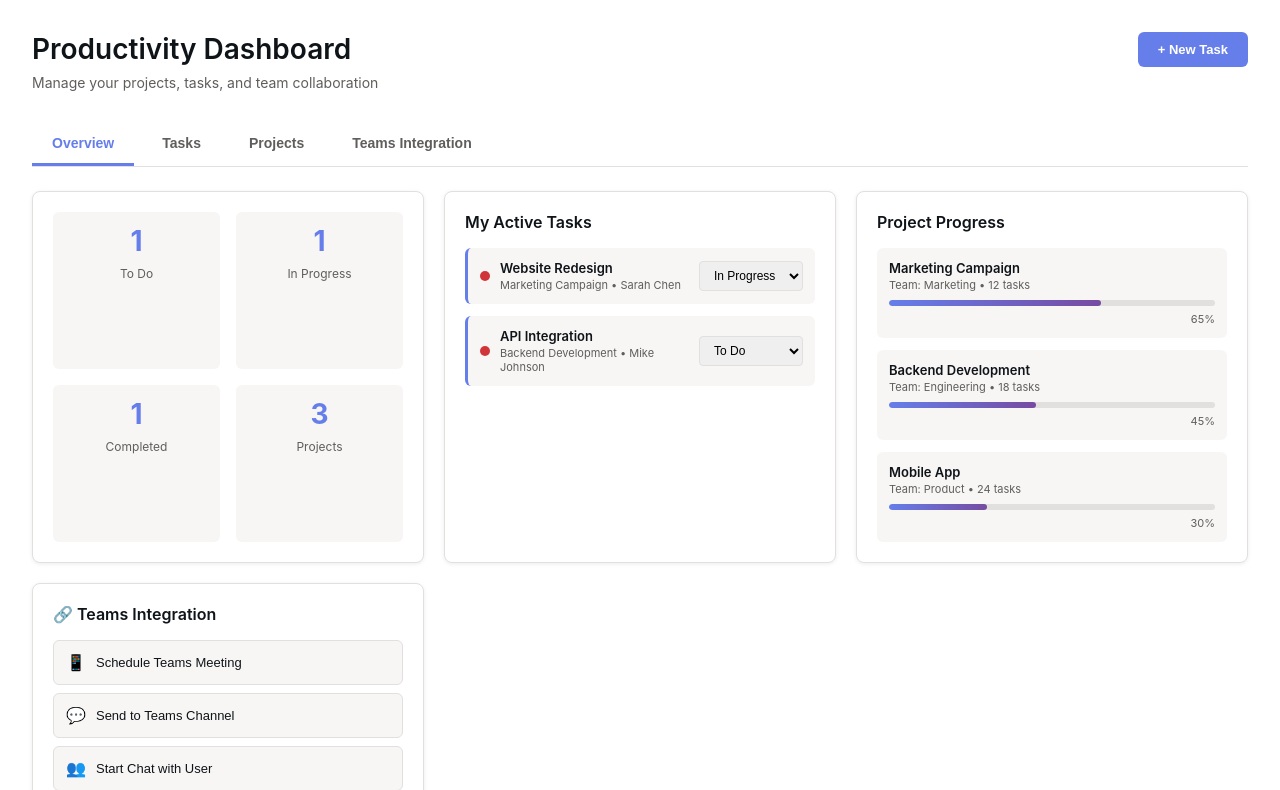
Test: Dashboard › creates a new task from the quick task form
Click the button "+ New Task" at (1193, 50), box [1138,32,1248,67]
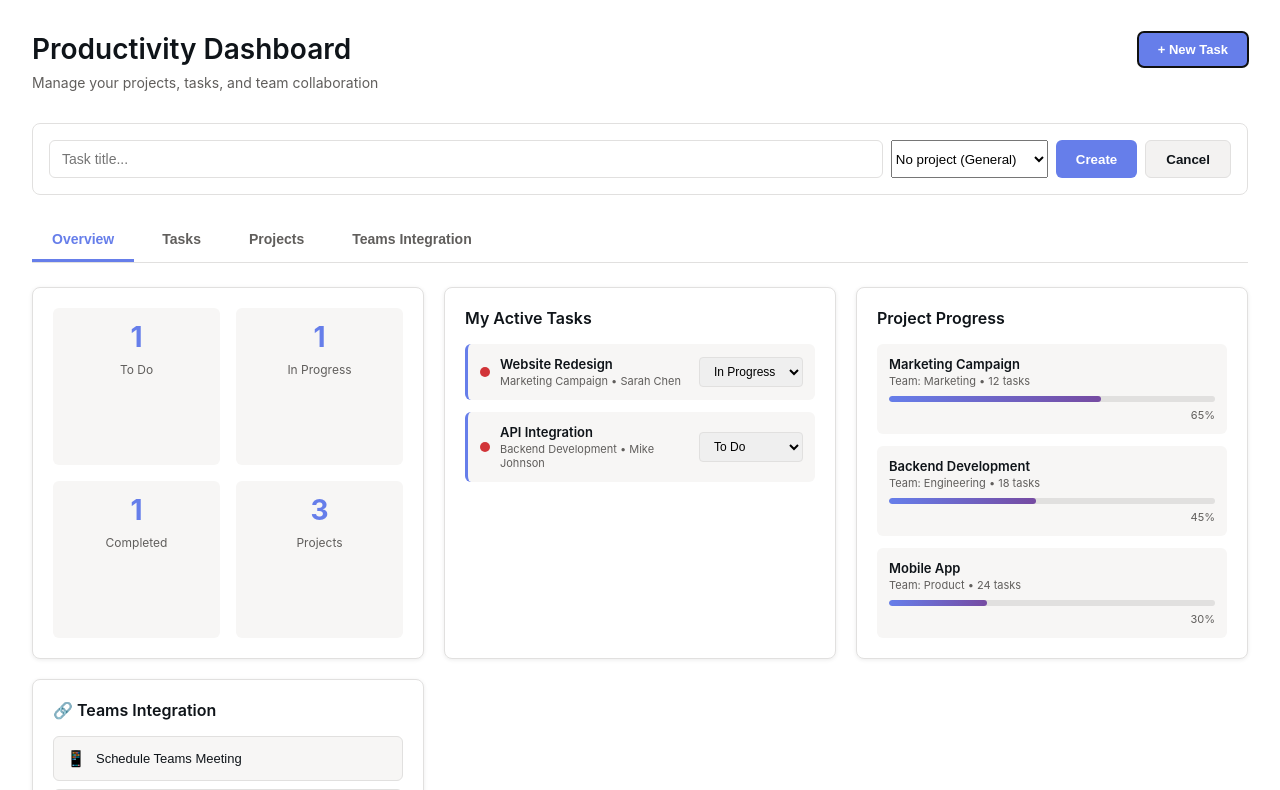
Type "Write automated tests" into the field with placeholder "Task title..." at (466, 159), box [49,140,883,178]
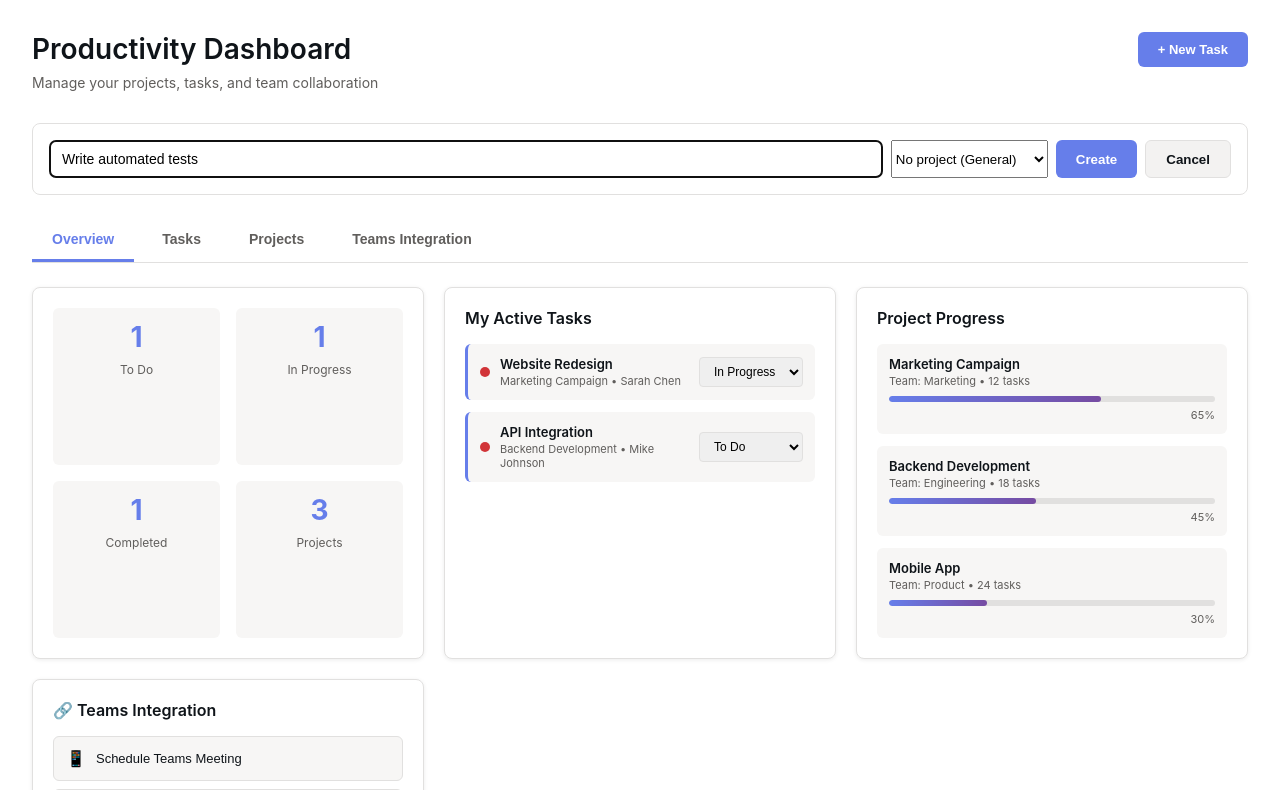
Click the button "Create" at (1097, 159), box [1056,140,1137,178]
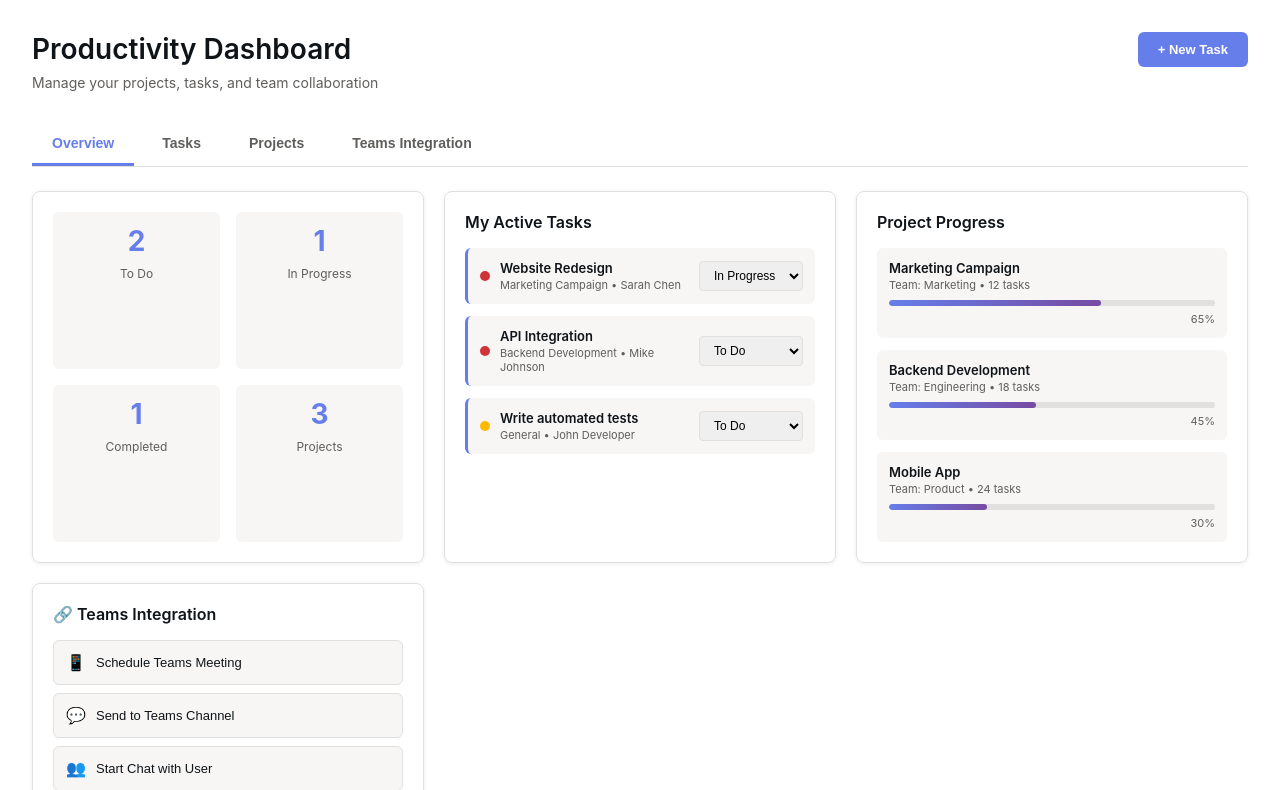
Now the text "Write automated tests" is shown, box [500,410,638,426]
